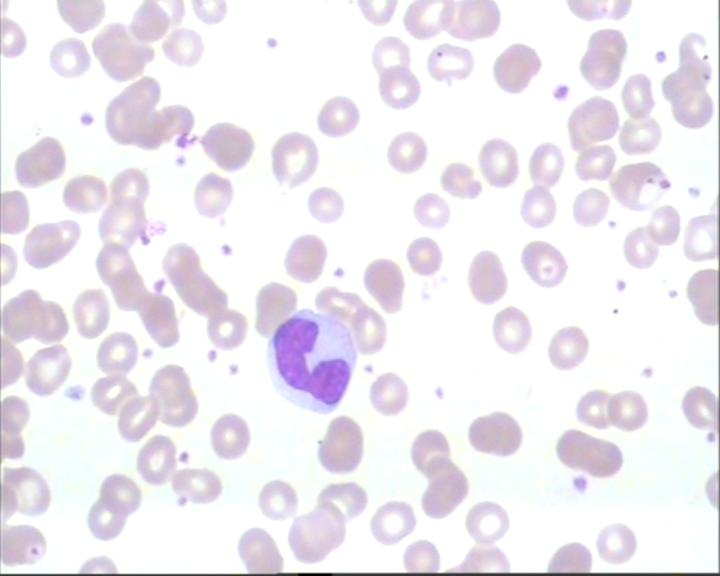mono: (257, 304, 357, 420)
